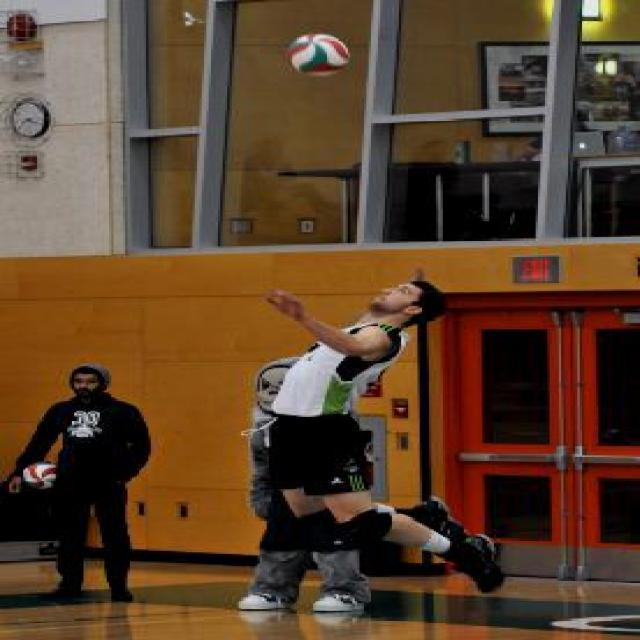volleyball: (288, 32, 350, 78)
